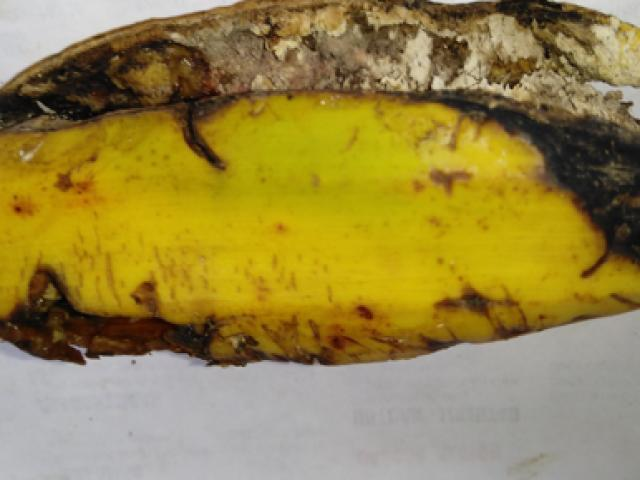rotten: (0, 0, 639, 395)
